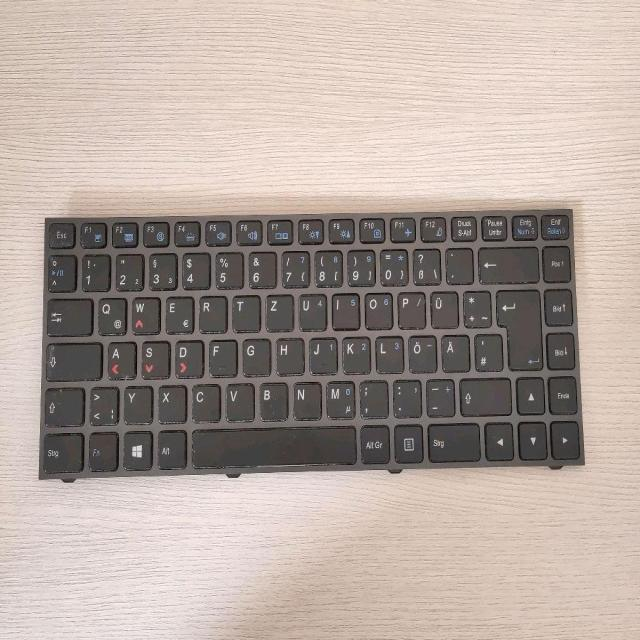0: (378, 245, 407, 284)
1: (79, 251, 109, 289)
2: (113, 250, 142, 289)
3: (146, 250, 176, 288)
4: (180, 250, 209, 287)
5: (213, 249, 241, 286)
6: (246, 248, 275, 286)
7: (280, 248, 309, 286)
8: (312, 248, 341, 285)
9: (345, 247, 374, 284)
a: (105, 338, 134, 377)
accent: (443, 244, 472, 282)
ae: (439, 331, 469, 370)
alt-left: (154, 428, 185, 467)
altgr-right: (358, 423, 388, 462)
b: (256, 378, 286, 419)
c: (189, 381, 219, 420)
caret: (45, 251, 75, 290)
comma: (357, 377, 386, 416)
d: (172, 337, 202, 376)
del: (476, 243, 537, 281)
e: (163, 293, 192, 331)
enter: (493, 287, 540, 368)
f: (206, 336, 235, 374)
g: (239, 335, 268, 373)
h: (272, 335, 302, 372)
hash: (472, 331, 501, 369)
i: (330, 290, 359, 328)
j: (307, 334, 336, 373)
k: (340, 333, 369, 372)
keyboard: (33, 205, 585, 478)
l: (373, 333, 402, 371)
less: (87, 383, 117, 424)
m: (323, 379, 354, 418)
minus: (424, 376, 454, 416)
n: (290, 379, 319, 417)
o: (362, 290, 392, 327)
oe: (406, 332, 435, 371)
p: (396, 289, 424, 327)
plus: (460, 287, 490, 326)
point: (391, 376, 421, 416)
q: (95, 295, 125, 334)
r: (196, 293, 225, 331)
s: (139, 338, 168, 376)
shift-left: (42, 383, 82, 424)
shift-lock: (44, 339, 100, 379)
shift-right: (457, 373, 509, 413)
space: (189, 423, 354, 465)
ss: (410, 245, 439, 283)
strg-left: (39, 430, 82, 472)
strg-right: (424, 420, 479, 460)
t: (230, 292, 258, 330)
tab: (45, 294, 91, 334)
u: (297, 291, 326, 328)
ue: (428, 288, 457, 327)
v: (223, 380, 253, 420)
w: (129, 294, 158, 331)
x: (155, 382, 185, 421)
y: (122, 384, 151, 423)
z: (263, 291, 292, 329)
